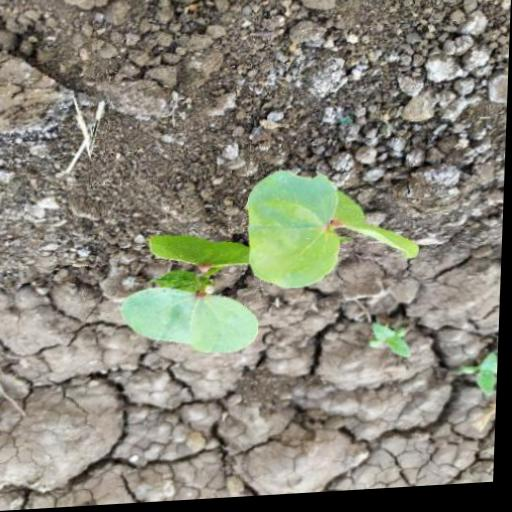weed: (101, 157, 424, 377)
